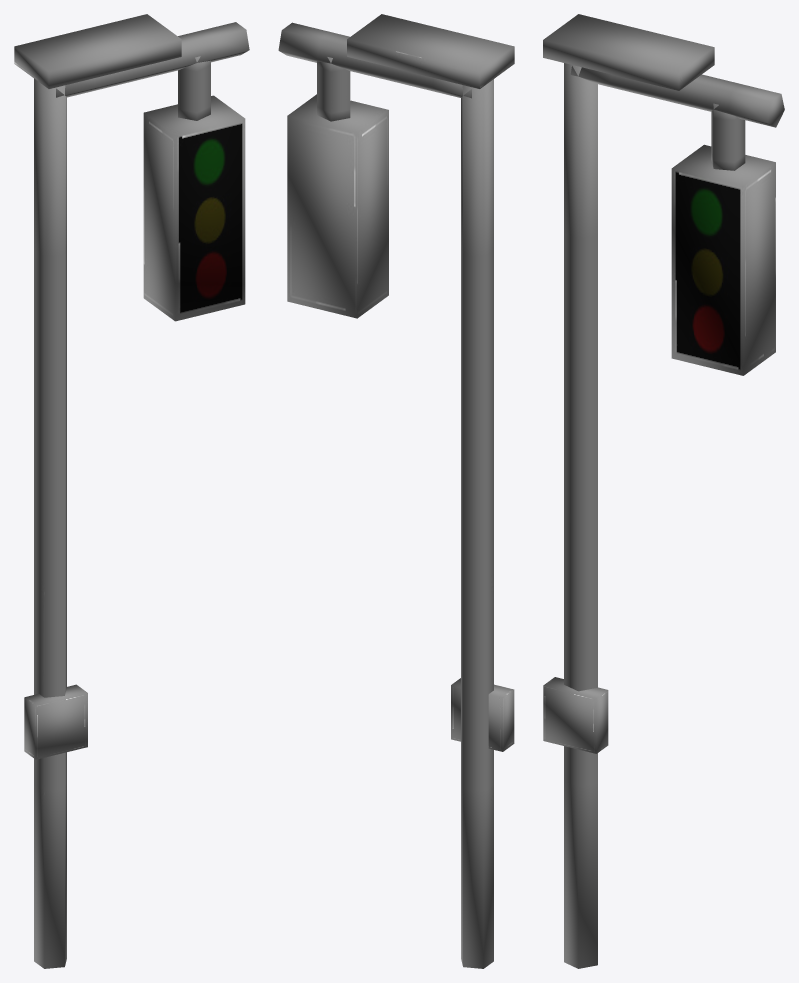
Rendered from traffic_lights.obj.
The picture shows the model from 3 angles, left to right: view 1: azimuth 30°, elevation 25°; view 2: azimuth 150°, elevation 25°; view 3: azimuth 330°, elevation 25°; orthographic projection. The views are drawn at different scales.
Visible parts, largest first — view 1: Cylinder001, Box002, Box001, Box003, Cylinder002, Cylinder003; view 2: Cylinder001, Box002, Box001, Cylinder002, Box003, Cylinder003; view 3: Cylinder001, Box002, Box001, Cylinder002, Box003, Cylinder003.
Part boxes in pixels (x1=…): Cylinder001: x1=34, y1=78, x2=66, y2=968; Box002: x1=143, y1=95, x2=245, y2=321; Box001: x1=14, y1=14, x2=181, y2=88; Box003: x1=24, y1=684, x2=87, y2=759; Cylinder002: x1=56, y1=22, x2=249, y2=97; Cylinder003: x1=178, y1=56, x2=210, y2=120; Cylinder001: x1=461, y1=79, x2=493, y2=968; Box002: x1=287, y1=94, x2=388, y2=318; Box001: x1=347, y1=14, x2=514, y2=88; Cylinder002: x1=278, y1=22, x2=471, y2=98; Box003: x1=451, y1=678, x2=514, y2=751; Cylinder003: x1=317, y1=57, x2=350, y2=121; Cylinder001: x1=564, y1=63, x2=597, y2=968; Box002: x1=671, y1=144, x2=775, y2=375; Box001: x1=543, y1=14, x2=714, y2=90; Cylinder002: x1=570, y1=66, x2=784, y2=127; Box003: x1=543, y1=677, x2=608, y2=753; Cylinder003: x1=711, y1=103, x2=745, y2=170.
Bounding box in the file's own units: 12.28 × 49.25 × 3.43.
